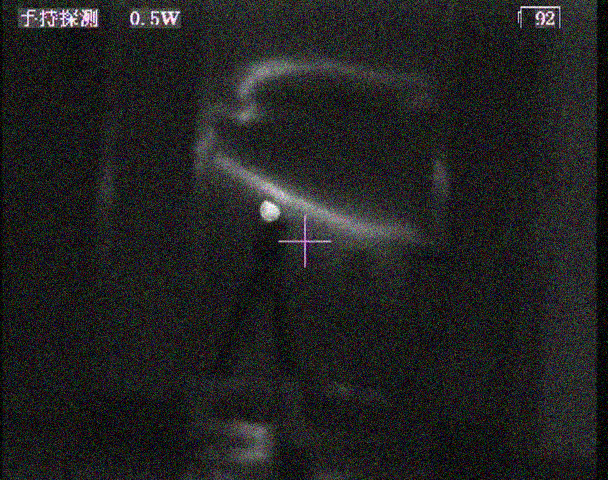my: (257, 198, 281, 223)
